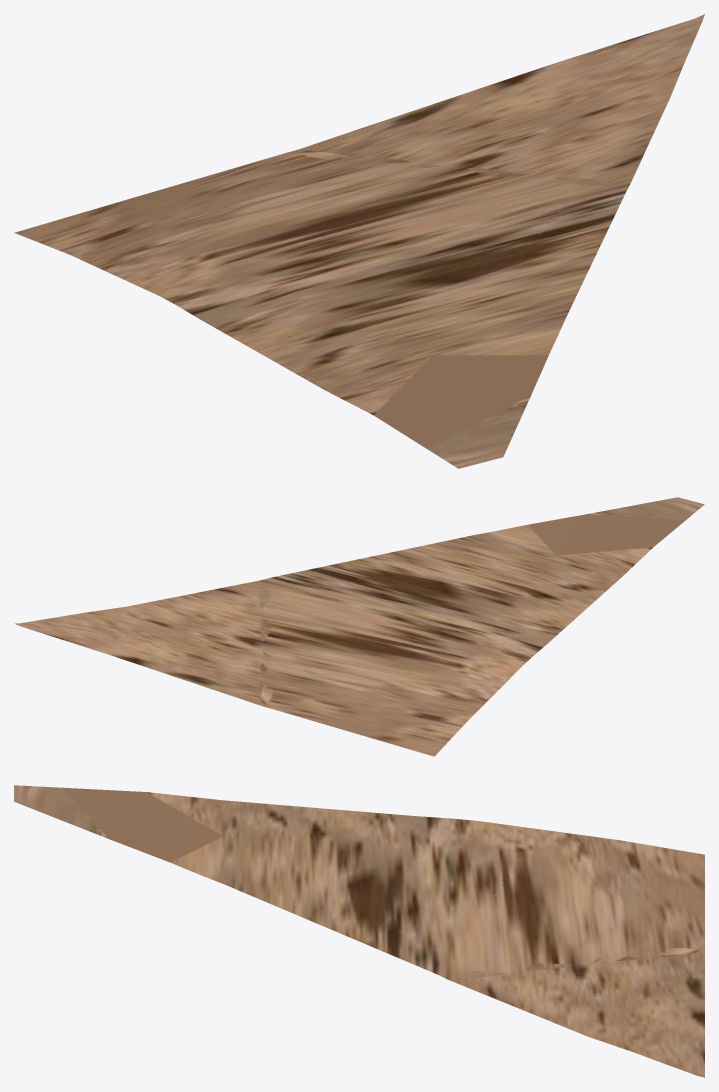
3 renders of one model, top to bottom at view 1: azimuth 30°, elevation 25°; view 2: azimuth 150°, elevation 25°; view 3: azimuth 270°, elevation 25°, orthographic. The views are drawn at different scales.
Bounding box in the file's own units: 3.75 × 0.4669 × 4.18.
Materials: 2 (2 with a texture image).
